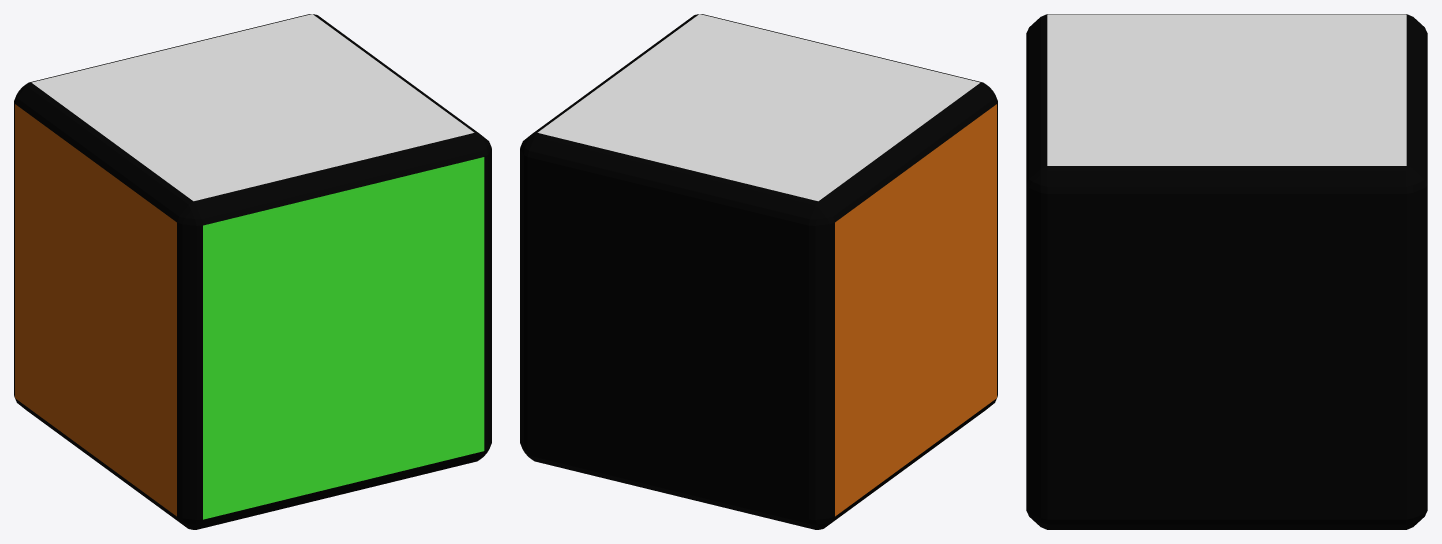
Rendered from OGW.glb.
The picture shows the model from 3 angles, left to right: view 1: azimuth 30°, elevation 25°; view 2: azimuth 150°, elevation 25°; view 3: azimuth 270°, elevation 25°; orthographic projection. The views are drawn at different scales.
Parts seen in each view (by area): view 1: Cube; view 2: Cube; view 3: Cube.
Part boxes in pixels (x1,y1,x2,y2): Cube: [14, 14, 491, 529]; Cube: [520, 14, 997, 529]; Cube: [1026, 14, 1427, 529].
Bounding box in the file's own units: 2 × 2 × 2.
